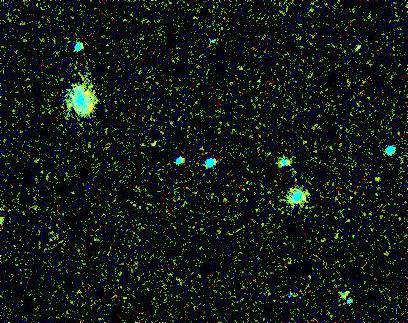star: (64, 85, 94, 115)
